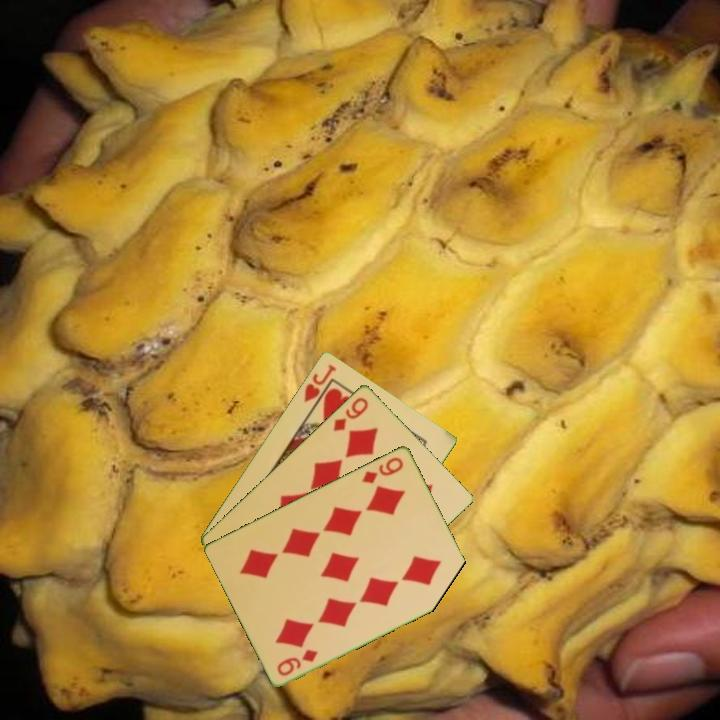9d: (330, 393, 371, 434), (273, 645, 321, 678), (359, 453, 406, 486)
Jh: (300, 360, 339, 405)
